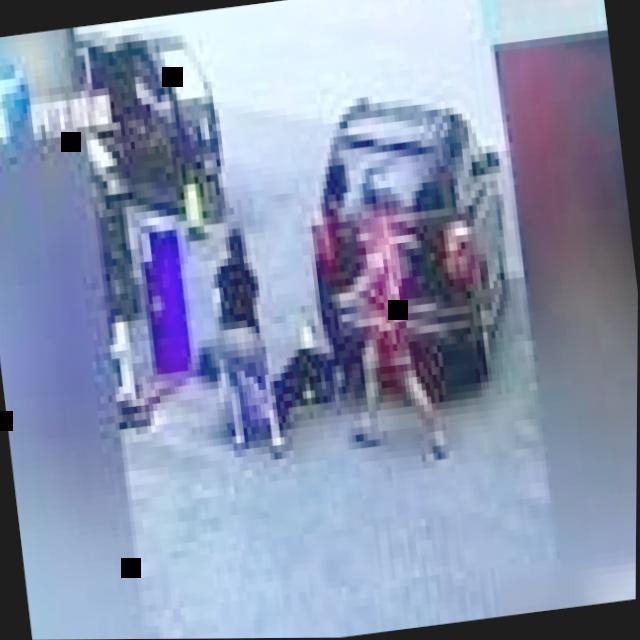Fall-Detected: (189, 294, 354, 440)
